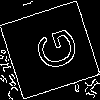G: (25, 25, 81, 77)
